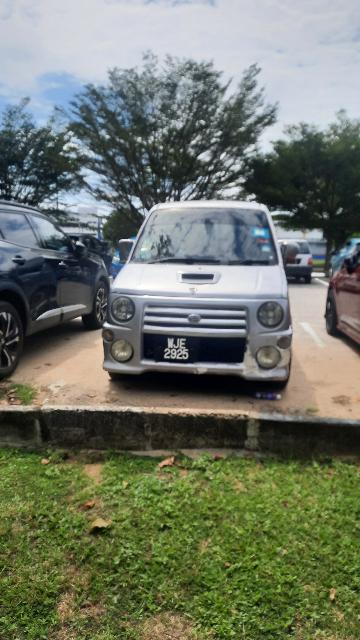License_Plate: (149, 333, 201, 368)
car: (98, 193, 296, 397)
